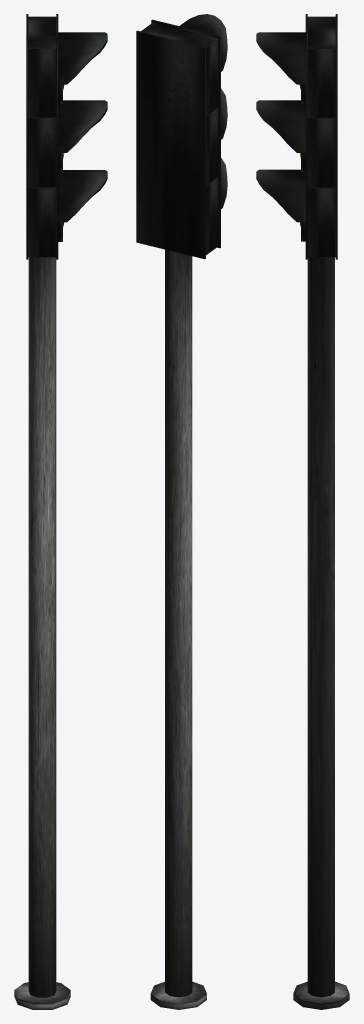
The picture shows the model from 3 angles, left to right: view 1: azimuth 90°, elevation 25°; view 2: azimuth 150°, elevation 25°; view 3: azimuth 270°, elevation 25°; orthographic projection.
Visible parts, largest first — view 1: Cylinder_1, Cube_2, Cube, Cube_1, Tube_5, Tube_3, Tube_1, Cylinder_1_2, Cube_5, Cube_4; view 2: Cylinder_1, Cube_5, Cube_2, Cylinder_1_2, Cube, Cube_1, Cube_4, Tube_5, Tube_3, Tube_1; view 3: Cylinder_1, Cube_2, Cube, Cube_1, Tube_1, Tube_5, Tube_3, Cylinder_1_2, Cube_5, Cube_4.
Part boxes in pixels (bbox=[...]): Cylinder_1: bbox=[28, 257, 56, 997]; Cube_2: bbox=[28, 16, 56, 117]; Cube: bbox=[28, 187, 56, 257]; Cube_1: bbox=[28, 117, 56, 187]; Tube_5: bbox=[58, 32, 107, 84]; Tube_3: bbox=[58, 100, 107, 152]; Tube_1: bbox=[58, 170, 107, 222]; Cylinder_1_2: bbox=[14, 982, 70, 1009]; Cube_5: bbox=[26, 14, 28, 259]; Cube_4: bbox=[56, 14, 58, 259]; Cylinder_1: bbox=[165, 249, 192, 997]; Cube_5: bbox=[136, 30, 205, 259]; Cube_2: bbox=[141, 22, 218, 115]; Cylinder_1_2: bbox=[150, 981, 206, 1009]; Cube: bbox=[206, 177, 218, 254]; Cube_1: bbox=[206, 108, 218, 185]; Cube_4: bbox=[151, 19, 220, 248]; Tube_5: bbox=[179, 14, 227, 71]; Tube_3: bbox=[221, 88, 227, 139]; Tube_1: bbox=[221, 158, 227, 208]; Cylinder_1: bbox=[307, 257, 334, 997]; Cube_2: bbox=[307, 16, 335, 117]; Cube: bbox=[307, 187, 335, 257]; Cube_1: bbox=[307, 117, 335, 187]; Tube_1: bbox=[256, 169, 305, 222]; Tube_5: bbox=[256, 32, 305, 84]; Tube_3: bbox=[256, 100, 305, 152]; Cylinder_1_2: bbox=[293, 981, 349, 1009]; Cube_5: bbox=[335, 14, 337, 259]; Cube_4: bbox=[305, 14, 307, 259].
Size of the model in its own units: 210 by 2806 by 246.
4 materials, 4 textured.
